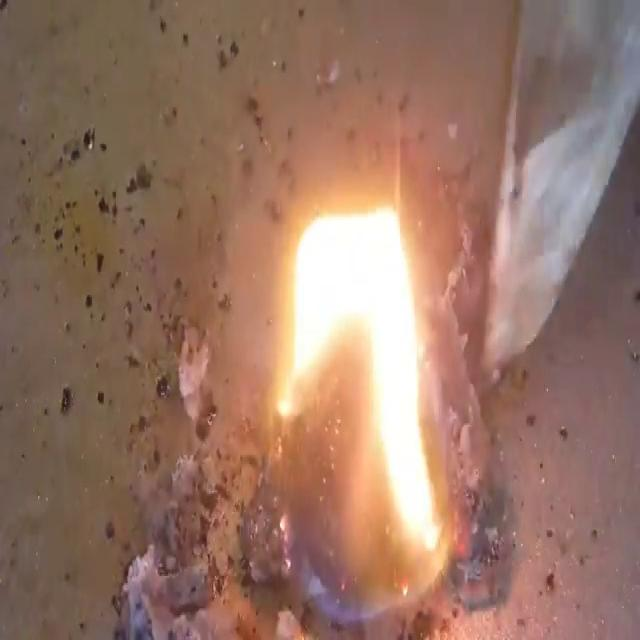Fire: (4, 4, 637, 636), (275, 199, 446, 565)
